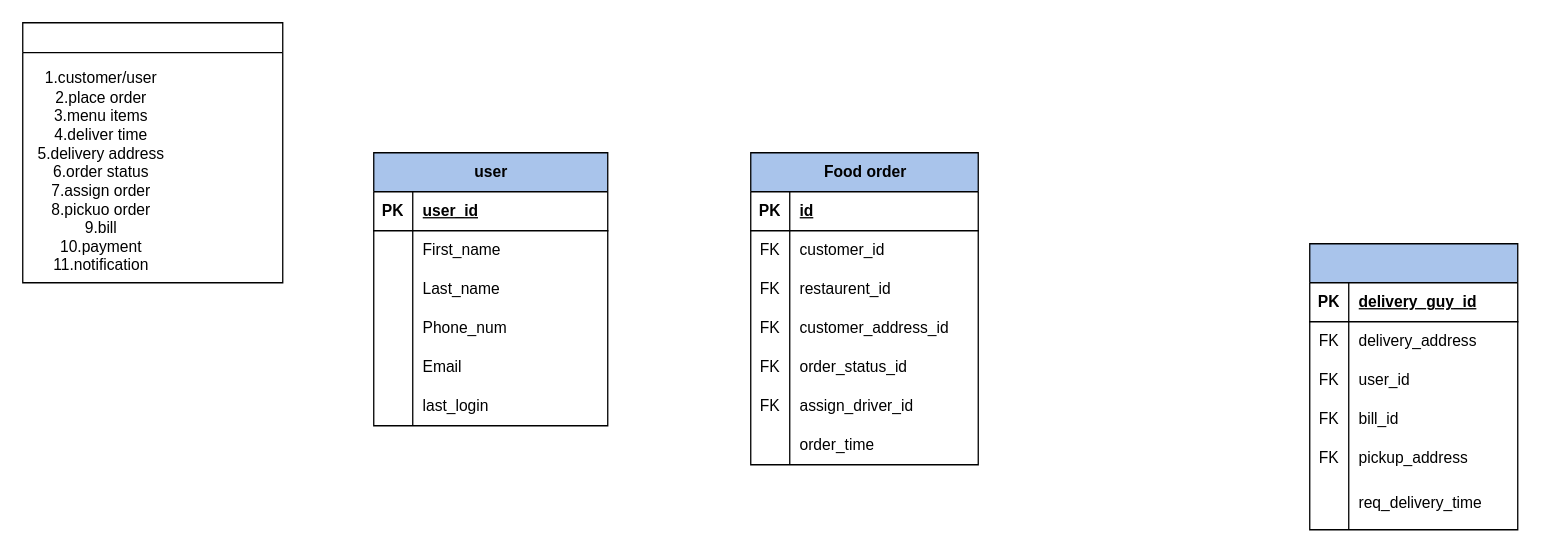
This 1567x553 diagram has some shape labels left out. The shapes that lost their labels are listed below. From the top down, each one's box as (x1, y1, x2, y2) in pixels, then its label:
(21, 21, 283, 283): Key pointer
(1308, 242, 1518, 530): delivery driver
